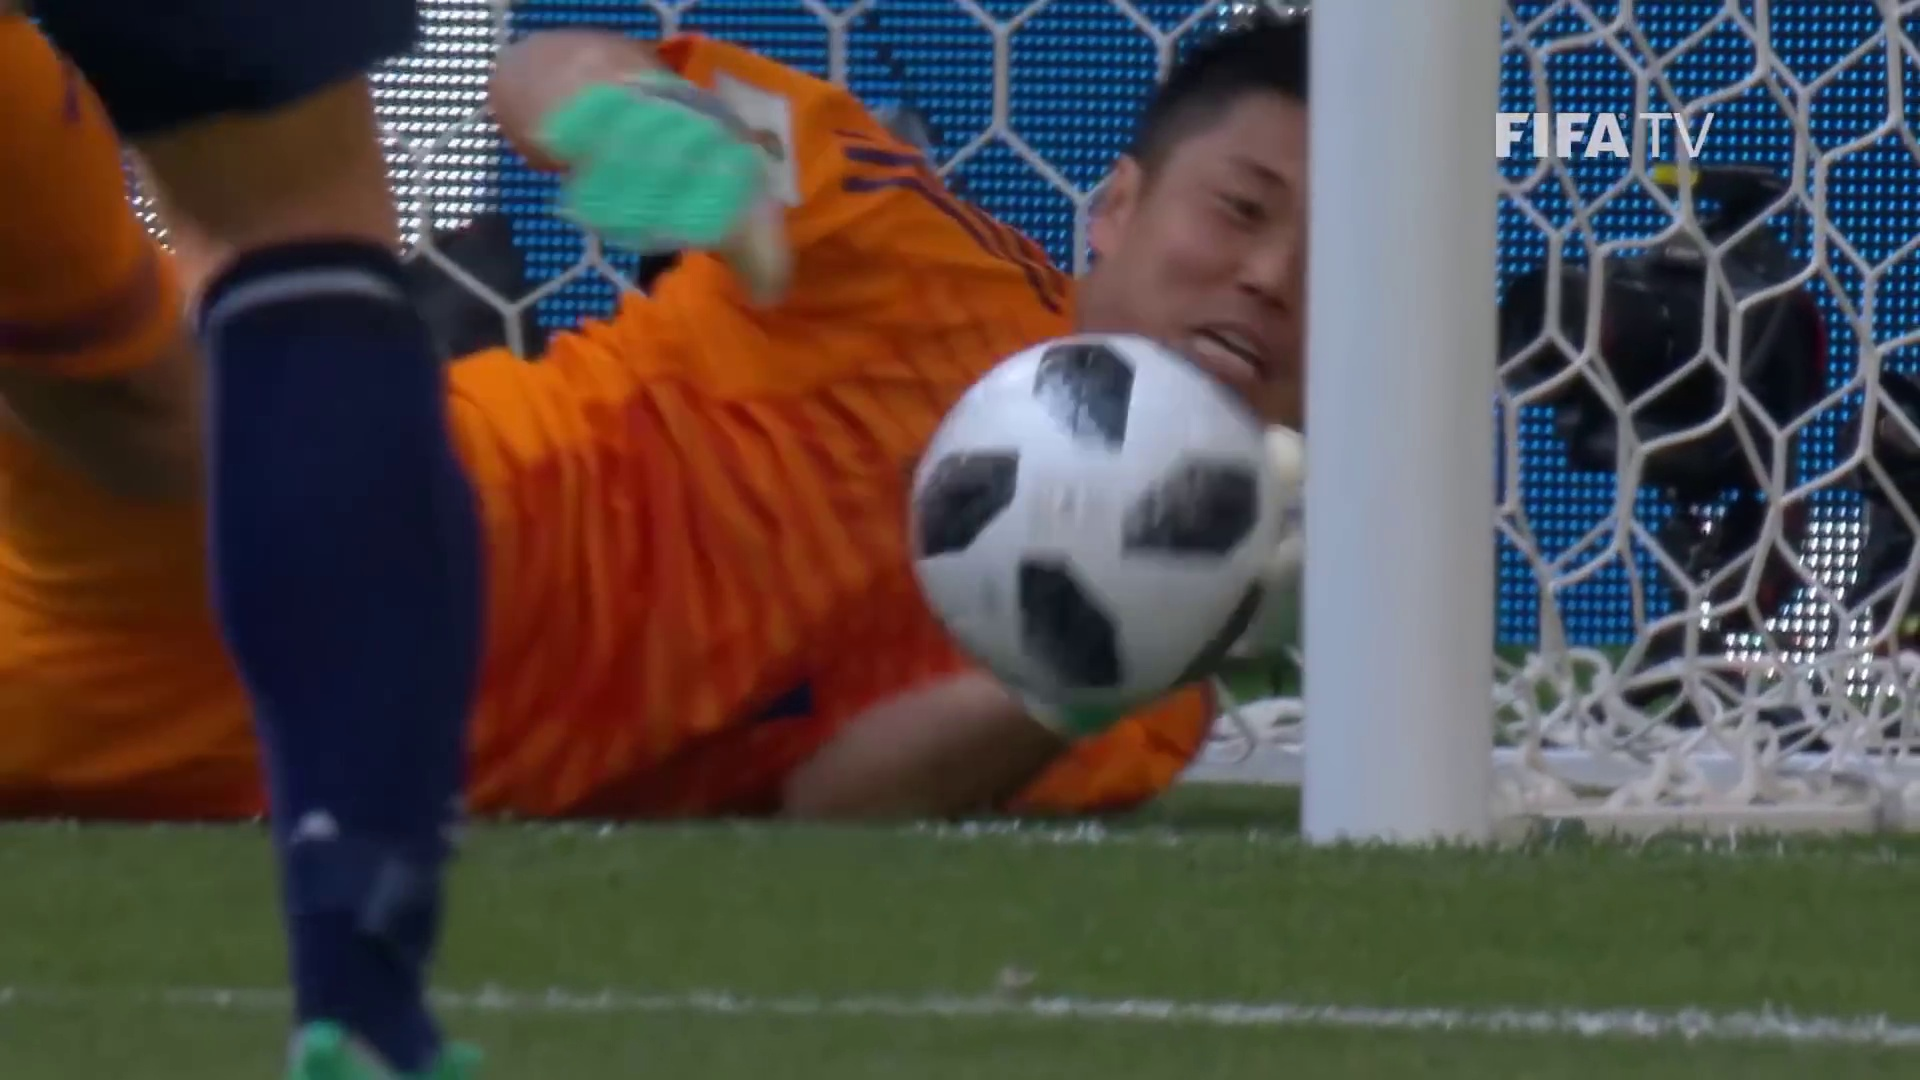ball: (905, 327, 1289, 698)
person: (479, 1, 1305, 849)
